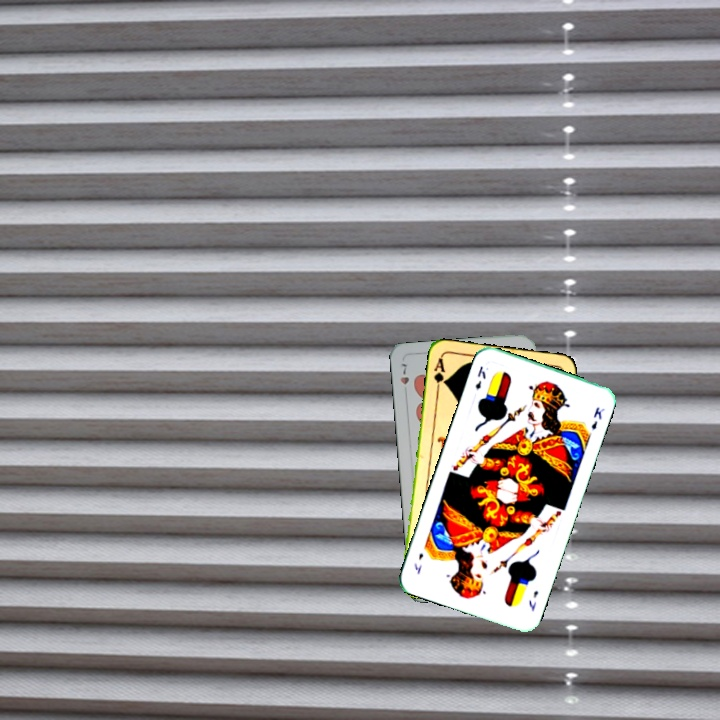EK: (471, 362, 488, 392), (525, 587, 541, 614)
GA: (430, 354, 448, 394)
H7: (396, 360, 412, 398)
